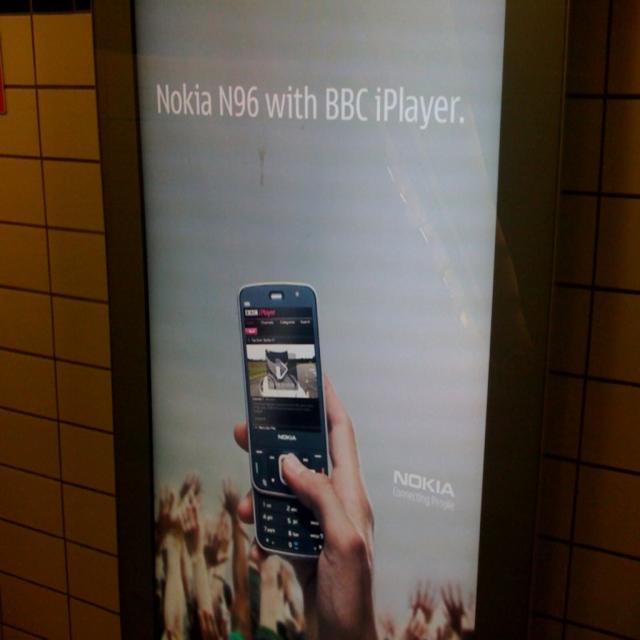Mobile-phone: (238, 269, 344, 577)
